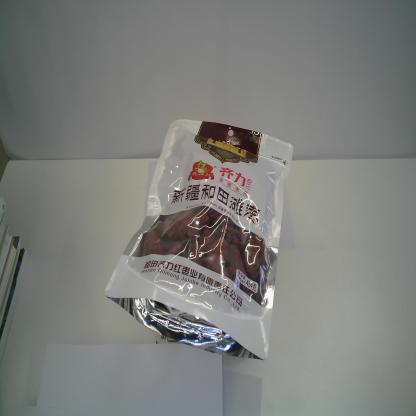Dried Food: (104, 118, 294, 362)
